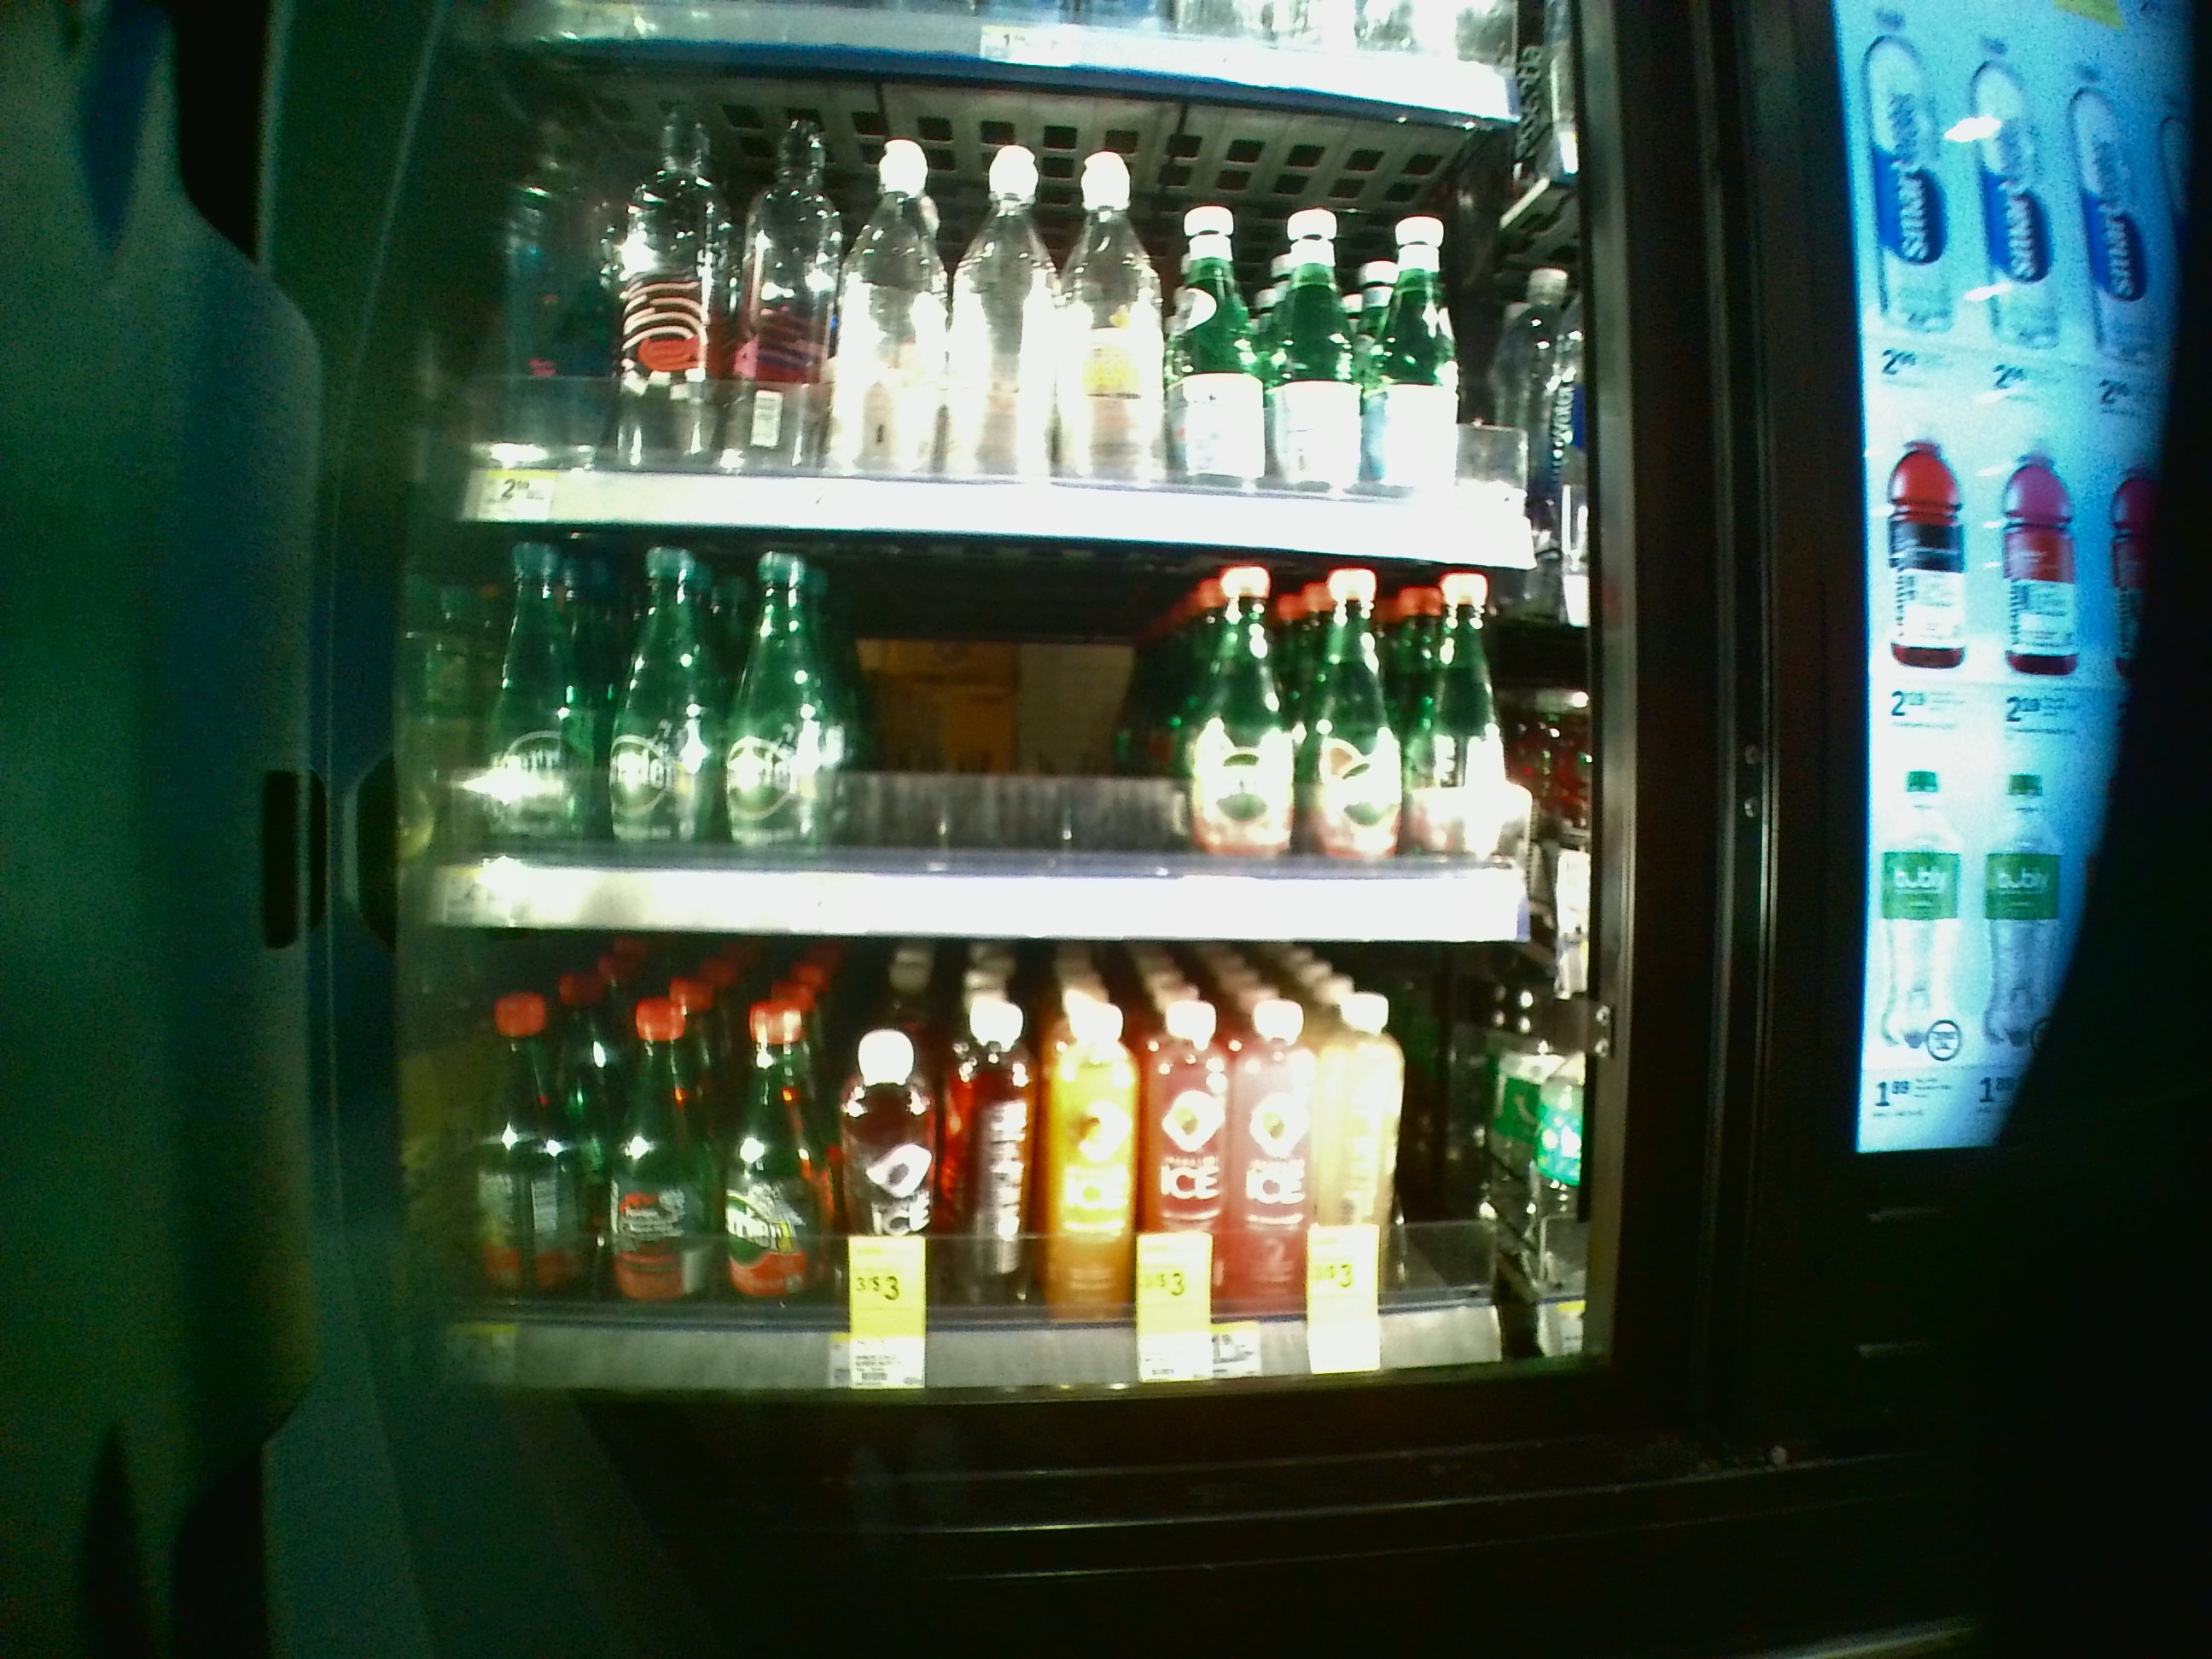shelf: (439, 953, 1606, 1405), (435, 526, 1599, 950)
